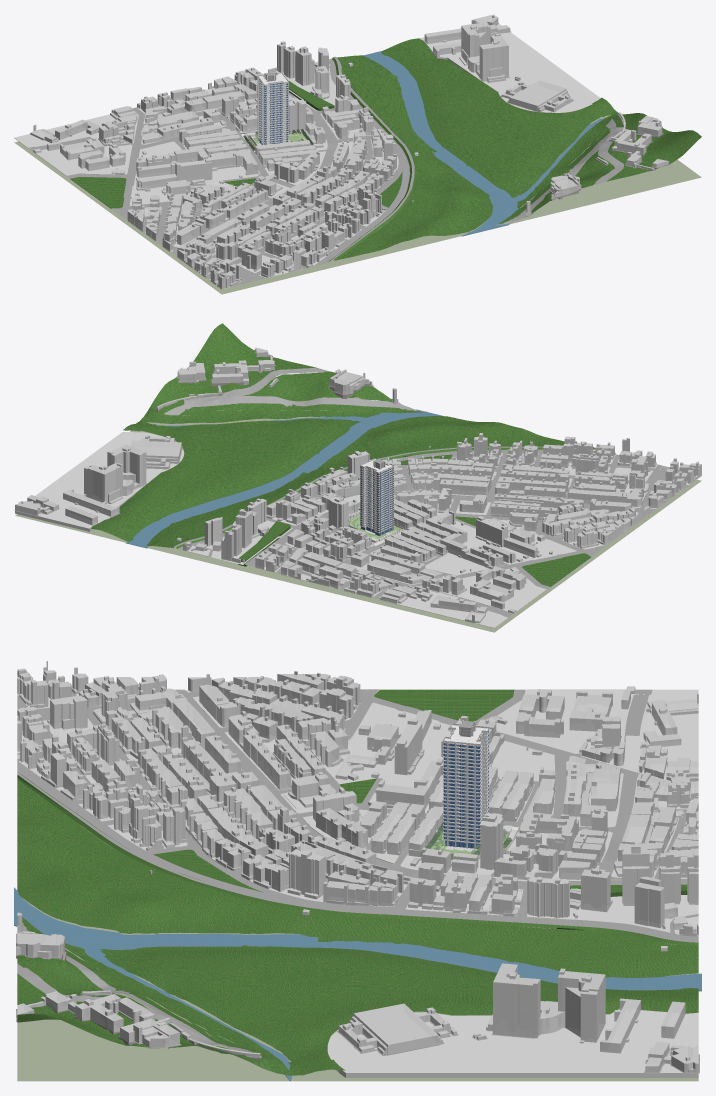
Rendered from yongan_28f.glb.
3 views of the same model, one above another, from view 1: azimuth 30°, elevation 25°; view 2: azimuth 150°, elevation 25°; view 3: azimuth 270°, elevation 25° (orthographic). The views are drawn at different scales.
Parts seen in each view (by area): view 1: Geom3D_ (×12), Geom3D (×3); view 2: Geom3D_ (×10), Geom3D (×5); view 3: Geom3D_ (×12), Geom3D (×6).
Part boxes in pixels (x1=…): Geom3D_ (×12): x1=14, y1=22, x2=701, y2=294; Geom3D (×3): x1=30, y1=14, x2=668, y2=289; Geom3D_ (×10): x1=14, y1=323, x2=701, y2=632; Geom3D (×5): x1=15, y1=347, x2=701, y2=623; Geom3D_ (×12): x1=14, y1=689, x2=701, y2=1081; Geom3D (×6): x1=17, y1=661, x2=698, y2=1072.
Size of the model in its own units: 802 by 123 by 606.
28 materials, 5 textured.
